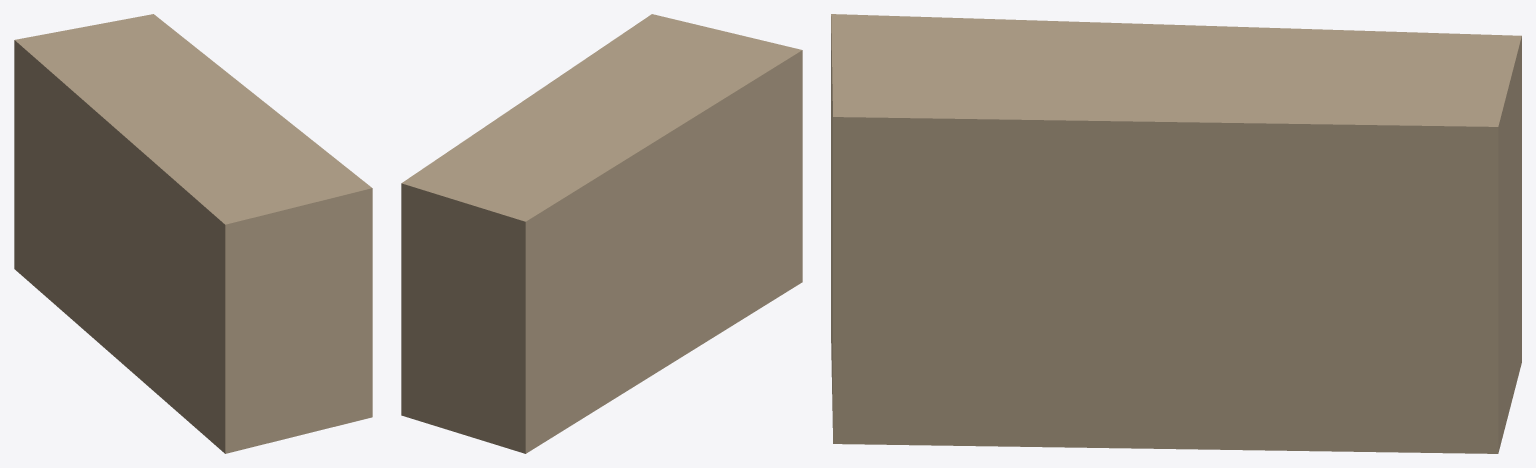
File: bld_98640383.dae
3 views of the same model, side by side, from view 1: azimuth 30°, elevation 25°; view 2: azimuth 150°, elevation 25°; view 3: azimuth 270°, elevation 25° (orthographic). The views are drawn at different scales.
Parts seen in each view (by area): view 1: Little Havers; view 2: Little Havers; view 3: Little Havers.
Part boxes in pixels (left/top/right/bottom): Little Havers: left=14, top=14, right=372, bottom=453; Little Havers: left=401, top=14, right=802, bottom=453; Little Havers: left=831, top=14, right=1521, bottom=453.
Size of the model in its own units: 5.93 by 15.32 by 8.
